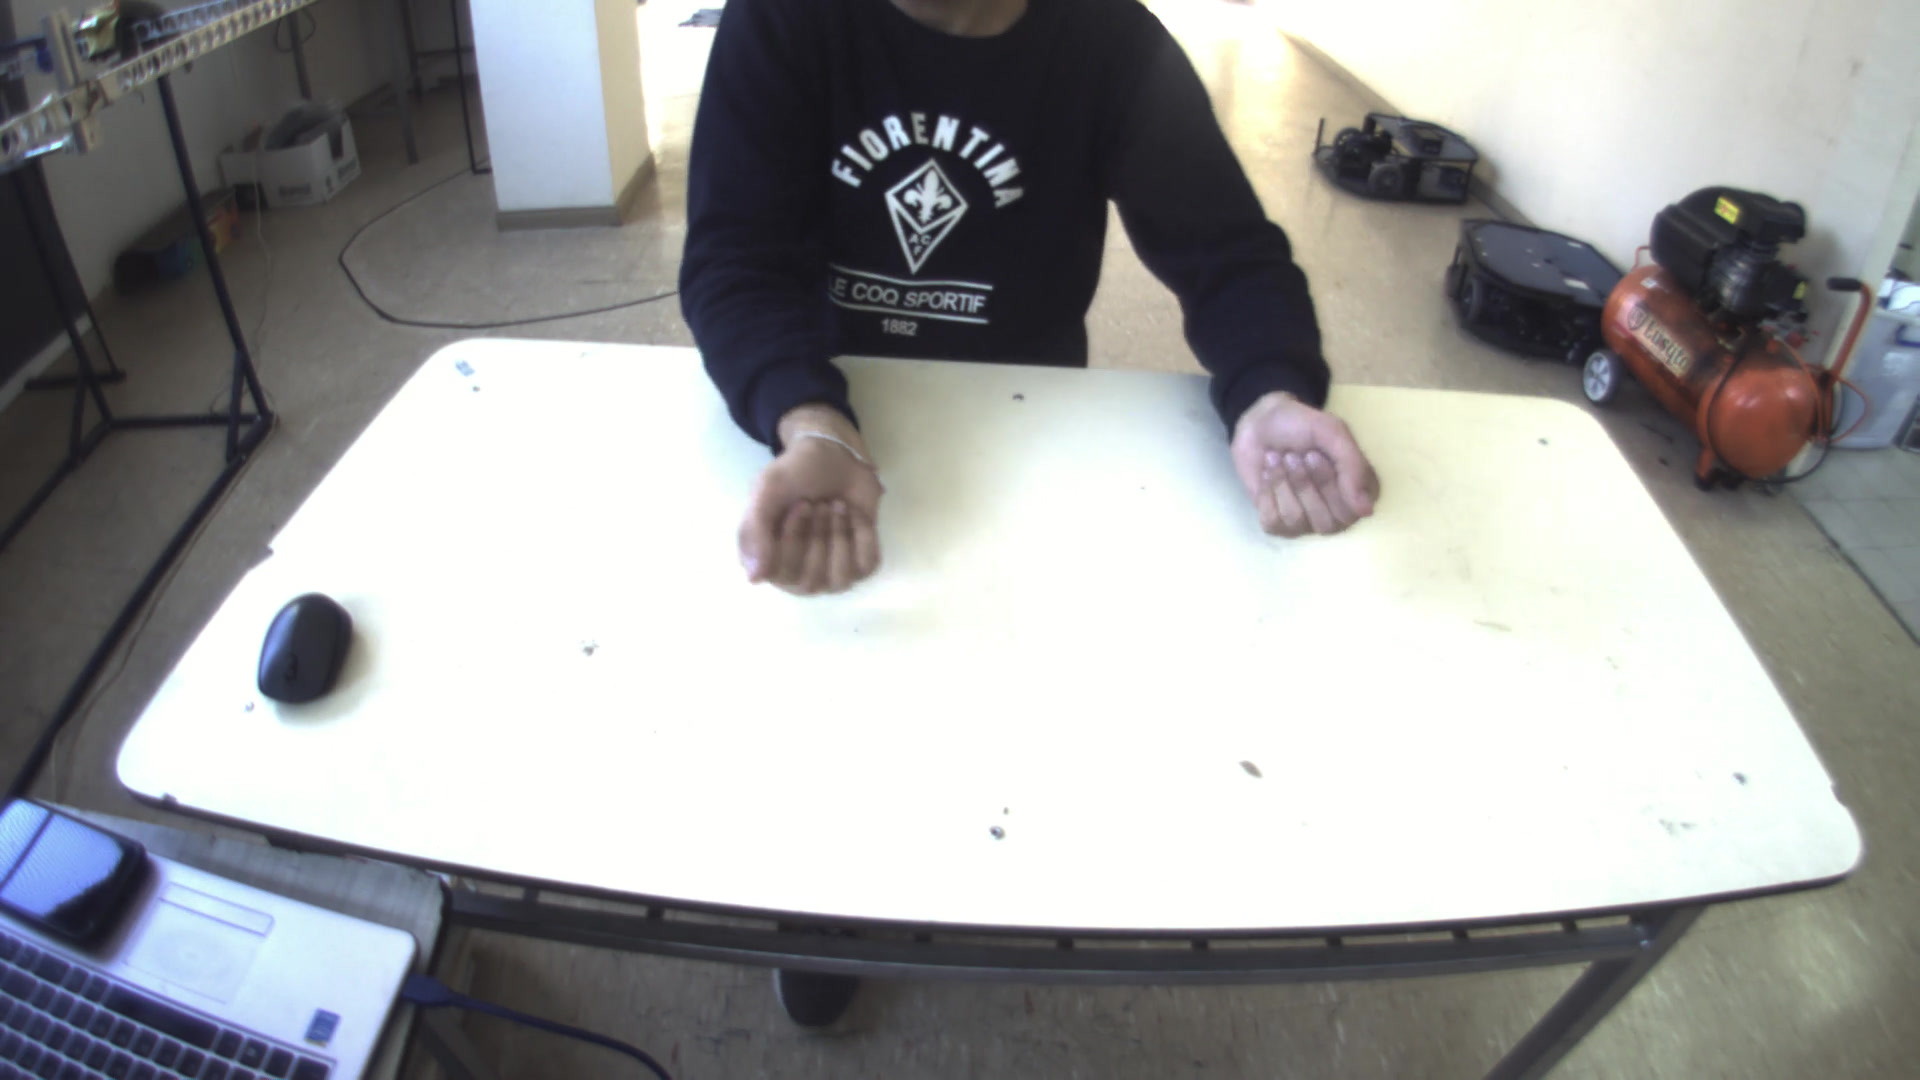hand: (731, 419, 895, 601), (1222, 378, 1393, 542)
